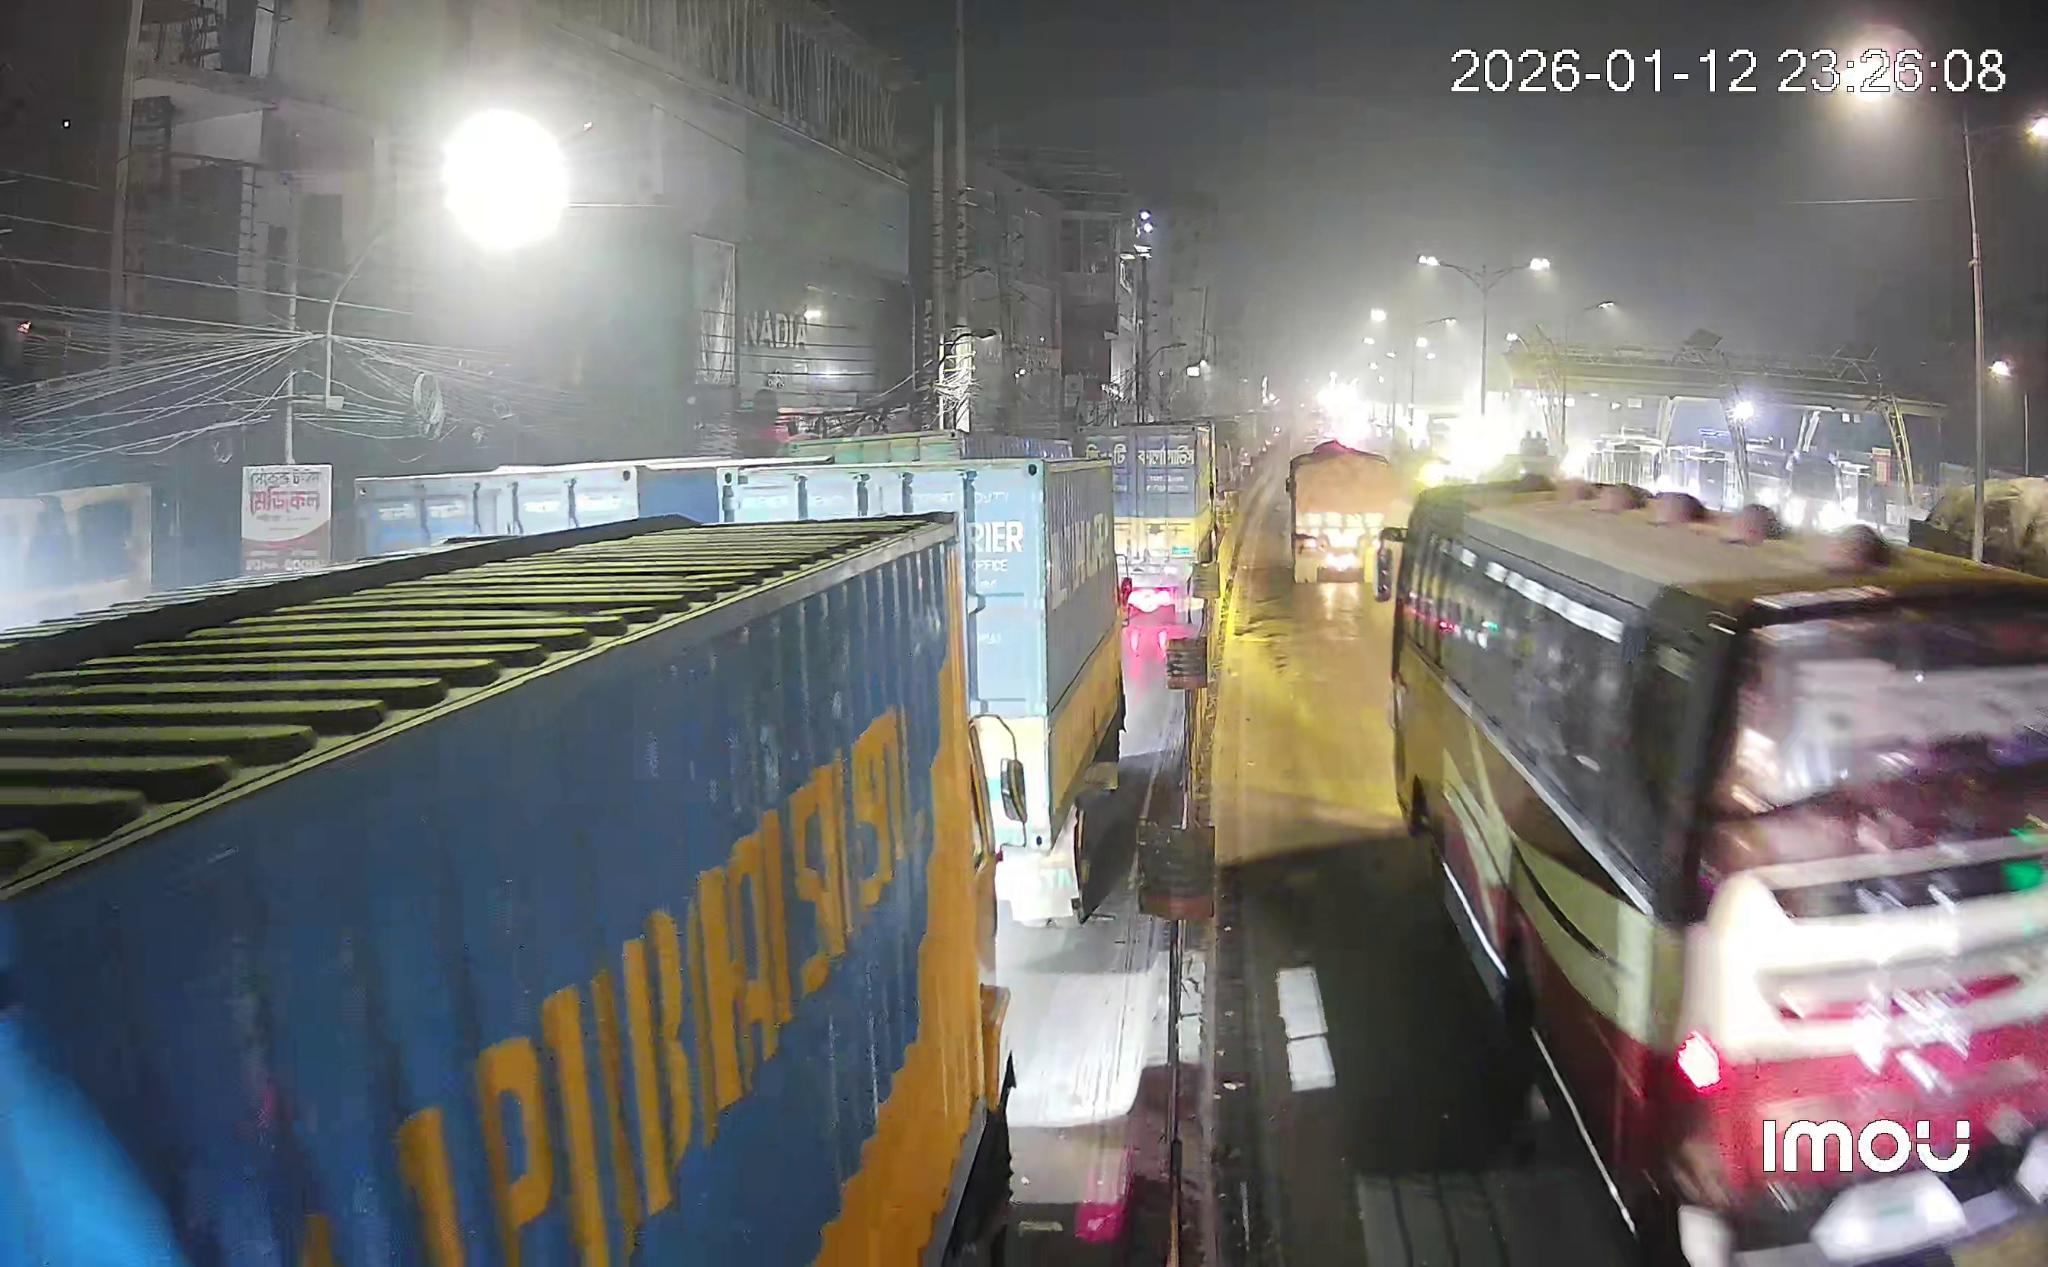Bus: (1374, 477, 2047, 1267)
Truck: (0, 514, 1010, 1267), (726, 458, 1125, 926), (1085, 423, 1216, 611), (1285, 440, 1410, 584)
